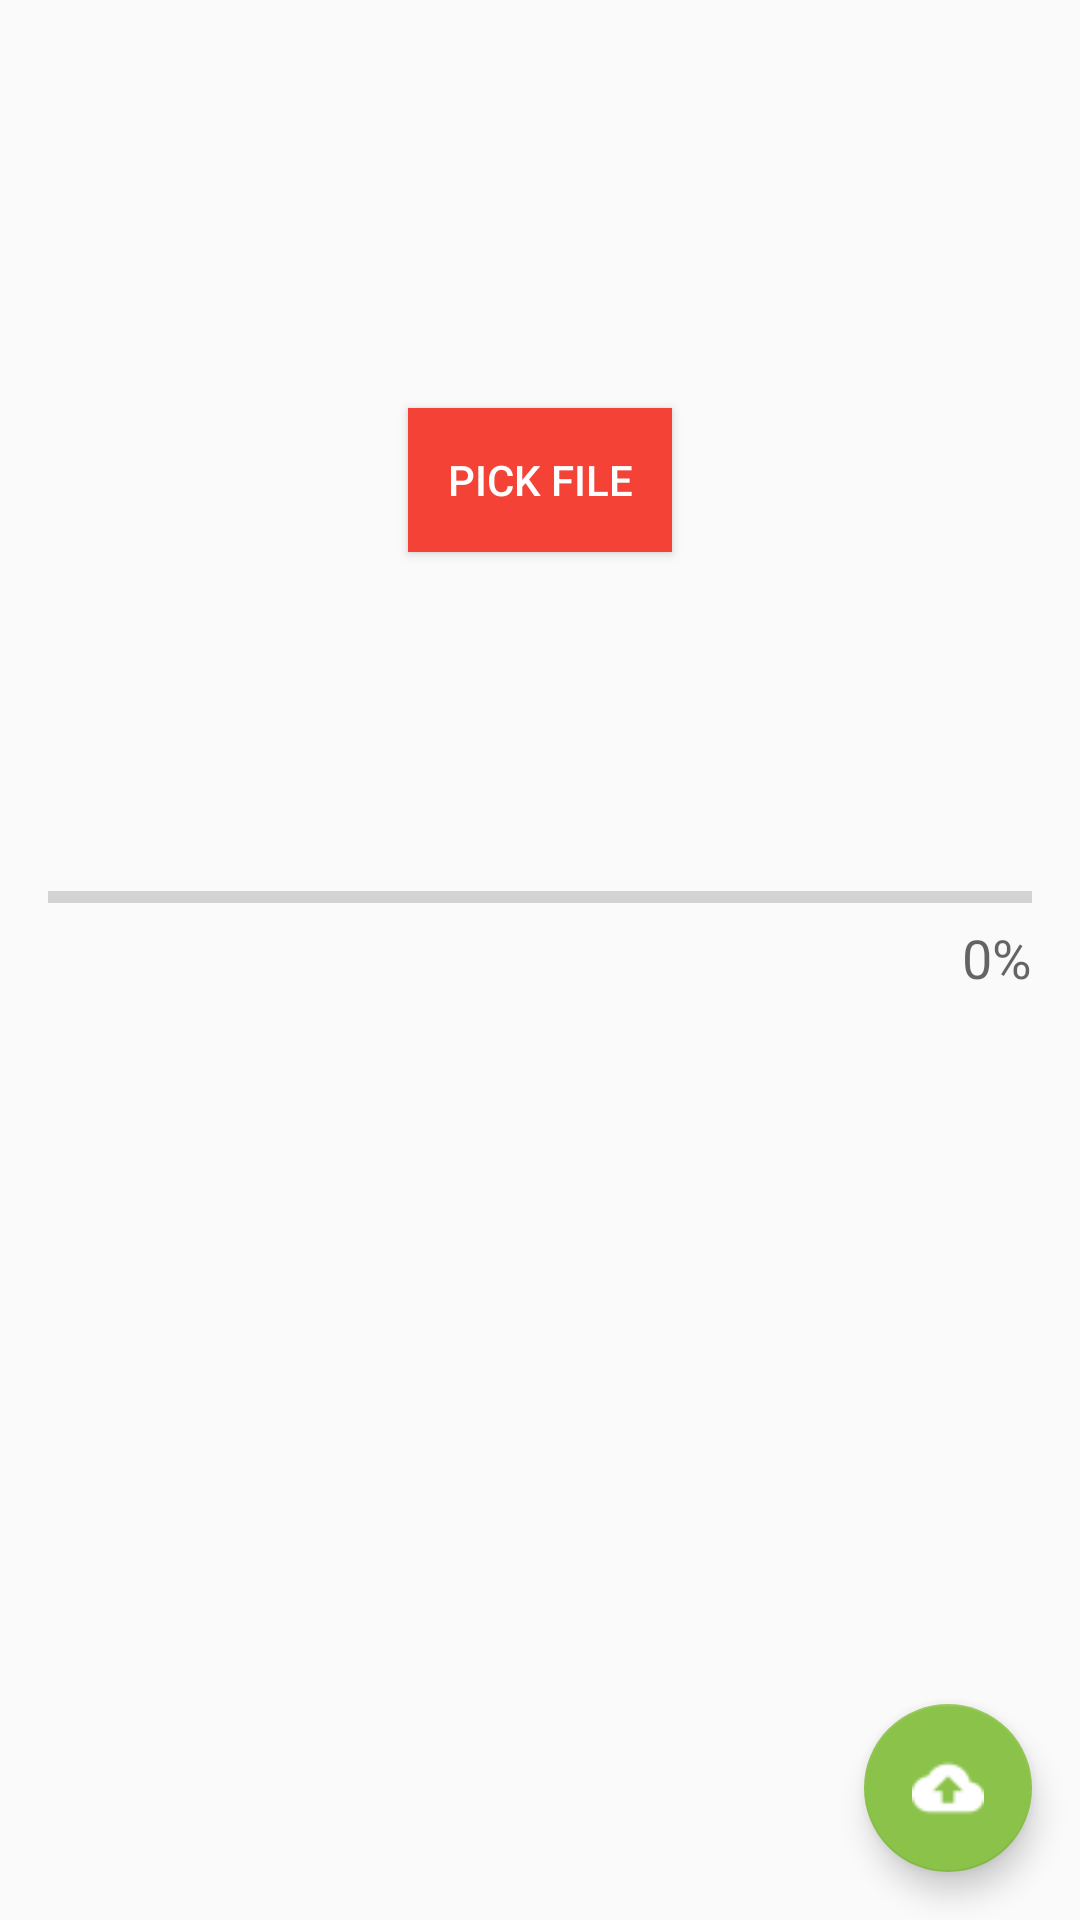

Named icons in this screenshot (1080w x 1920h) and their centers, [x,y]:
backup: [948,1788]
